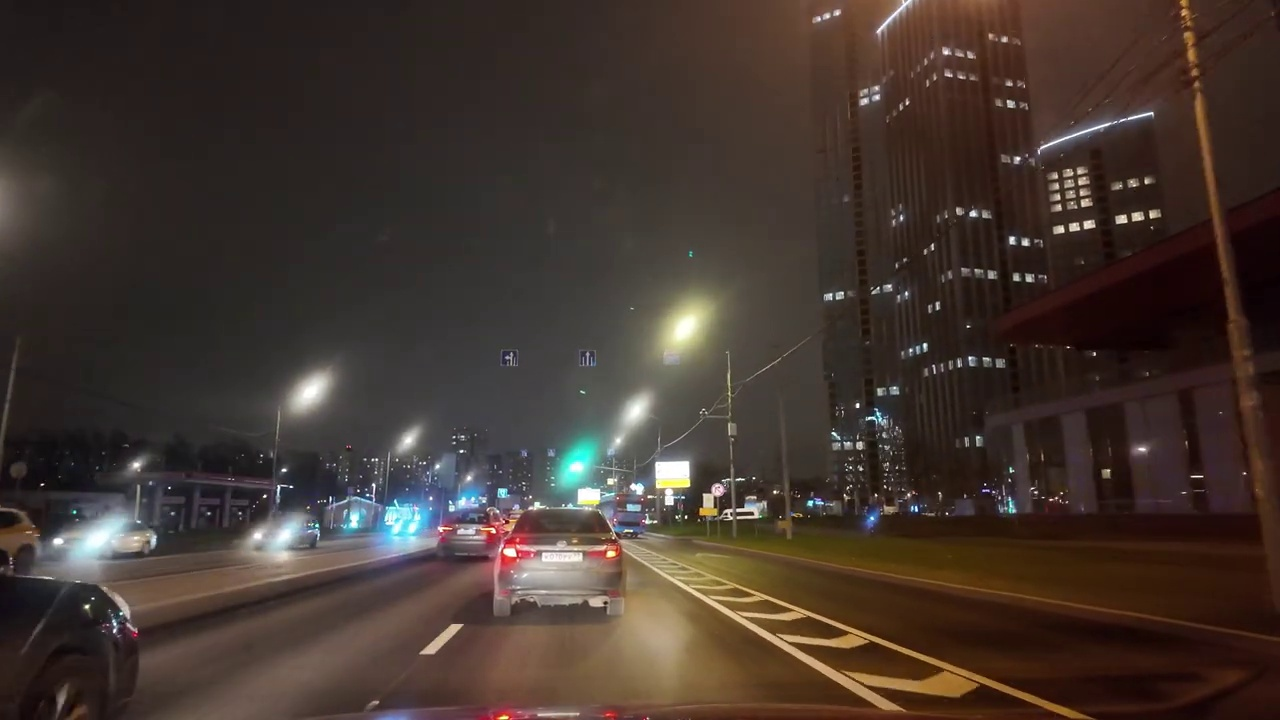acesa: (660, 301, 711, 358), (286, 369, 334, 420), (616, 391, 652, 431), (390, 422, 424, 458)
